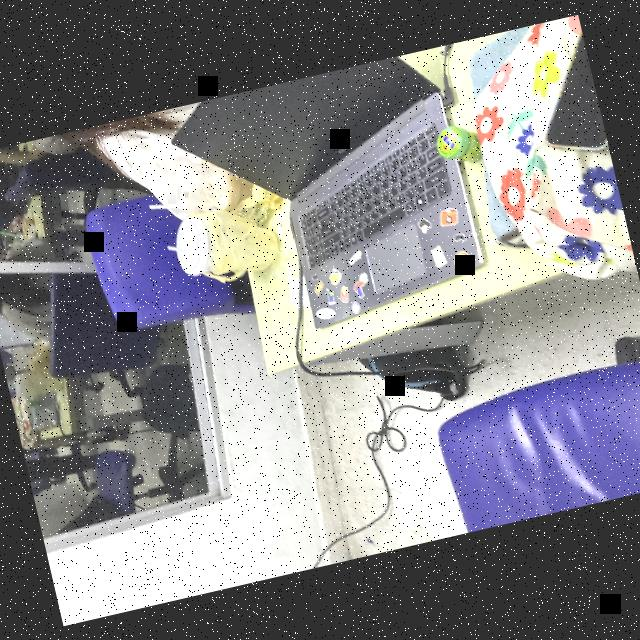plastic_bag: (195, 198, 286, 288), (226, 169, 284, 230)
plastic_cup: (164, 198, 282, 292), (156, 144, 256, 228)
plastic_cup_lid: (166, 212, 220, 282)
scrap_paper: (284, 270, 316, 312)
straw: (146, 190, 214, 221), (164, 240, 193, 260)
